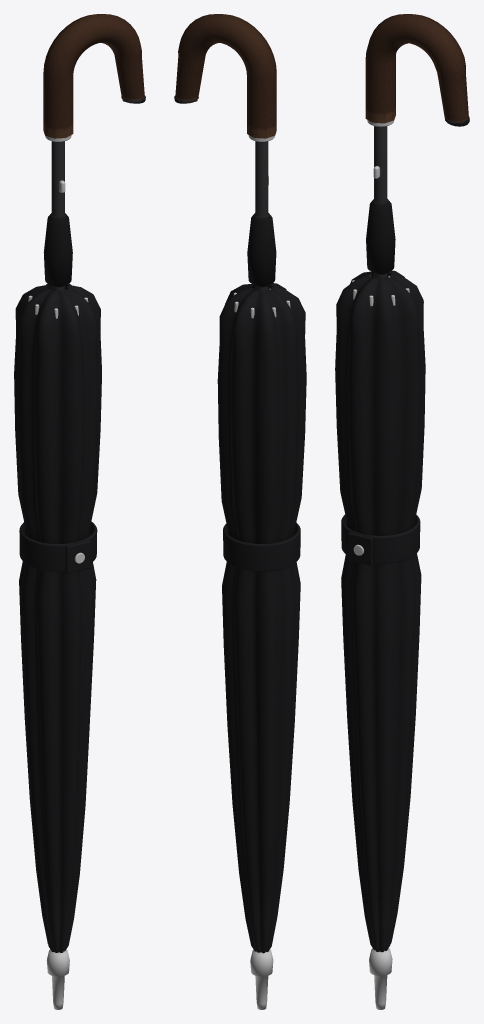
The model's file is HomeUmbrella.fbx.
3 views of the same model, side by side, from view 1: azimuth 30°, elevation 25°; view 2: azimuth 150°, elevation 25°; view 3: azimuth 330°, elevation 25° (orthographic).
Parts seen in each view (by area): view 1: HomeUmbrella; view 2: HomeUmbrella; view 3: HomeUmbrella.
Part boxes in pixels (x1,y1,x2,y2): HomeUmbrella: [14, 14, 145, 1009]; HomeUmbrella: [174, 14, 306, 1009]; HomeUmbrella: [335, 14, 469, 1009].
Bounding box in the file's own units: 0.1124 × 0.8597 × 0.0706.
